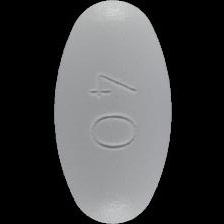59762-0157: (0, 0, 224, 224)
